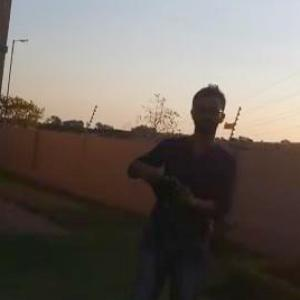follow: (120, 75, 244, 299)
